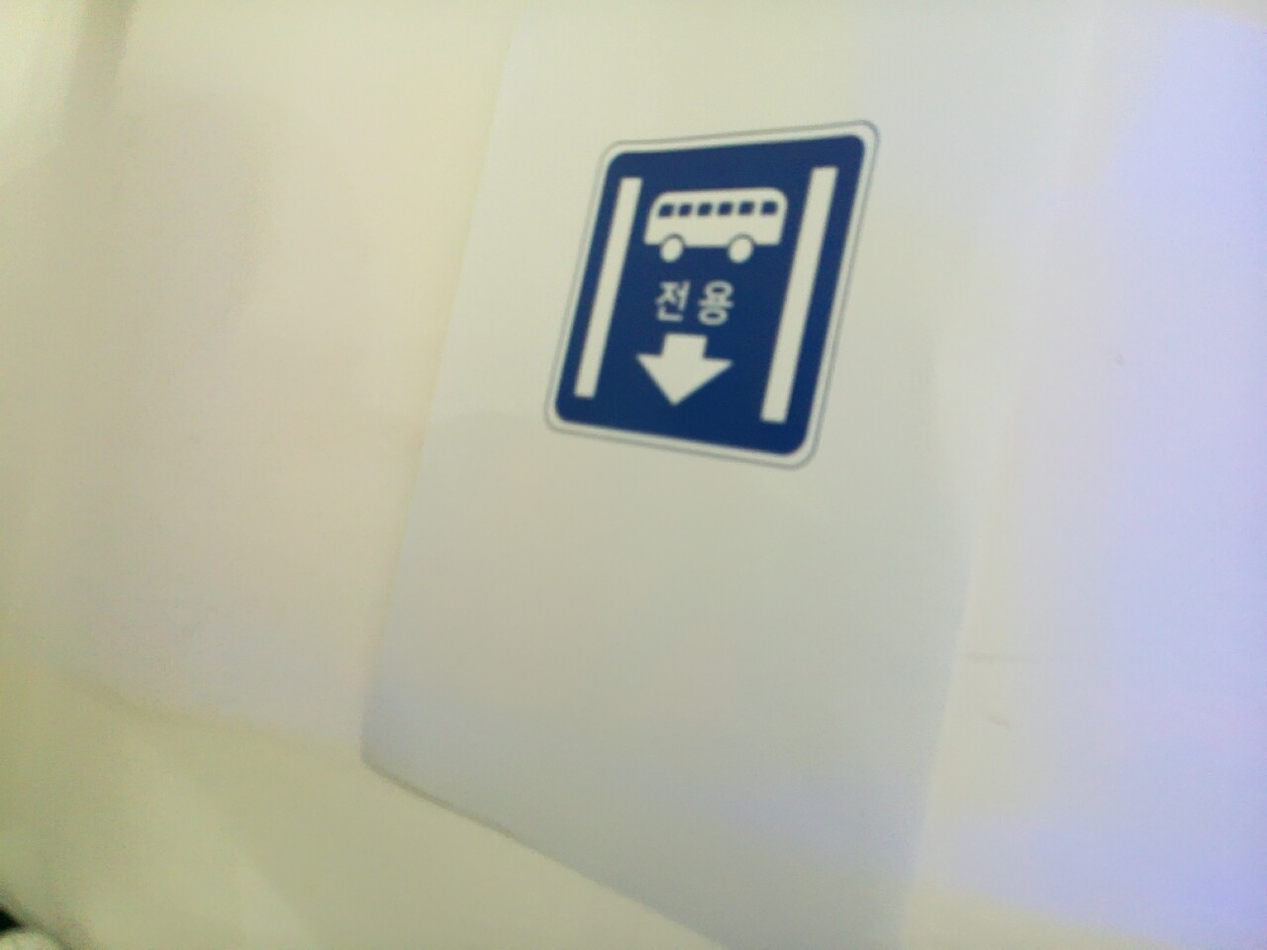bus_only_lane: (545, 125, 875, 465)
